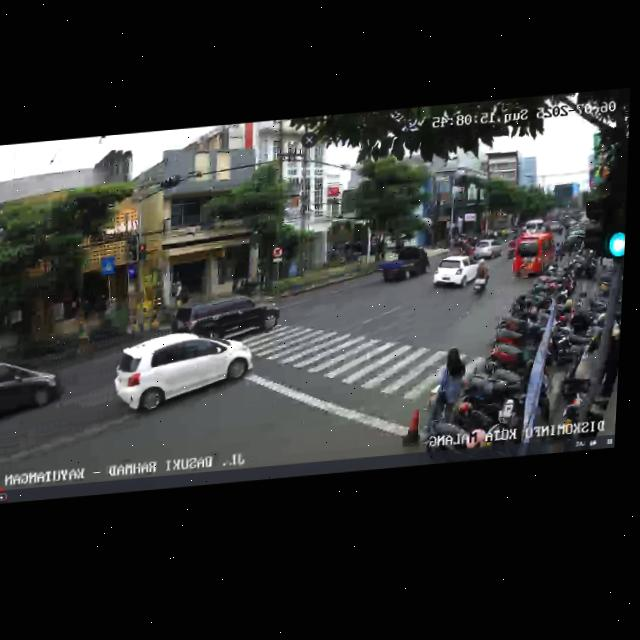car: (109, 321, 253, 421), (170, 285, 283, 344), (0, 354, 62, 428), (511, 230, 561, 280), (431, 252, 485, 293), (377, 244, 430, 285), (473, 234, 505, 260)
motorcycle: (470, 260, 489, 301)
person: (426, 343, 470, 432)
